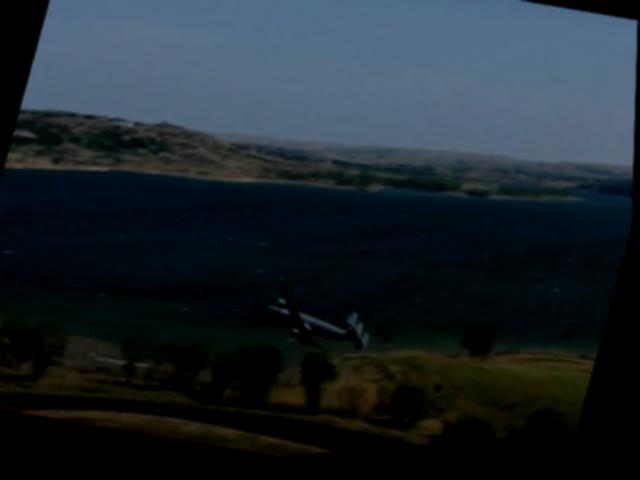iha: (251, 271, 387, 376)
